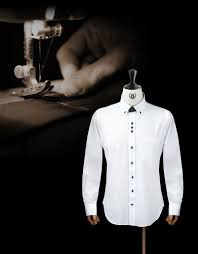C_shirt: (81, 94, 183, 228)
